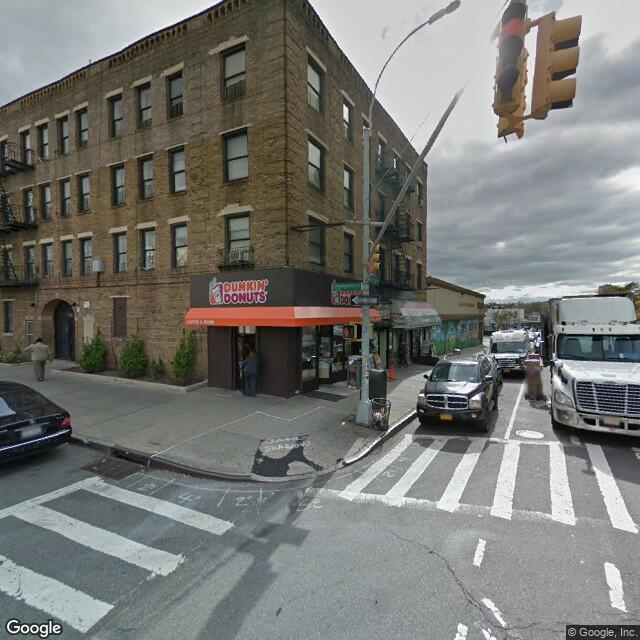litter: (341, 419, 348, 426), (101, 457, 108, 463)
